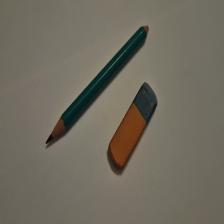eraser: (109, 82, 158, 171)
pencil: (47, 26, 150, 145)
